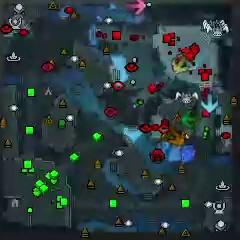p1: (180, 144, 196, 165)
x1: (127, 0, 148, 15)
x2: (170, 56, 189, 74)
x3: (200, 93, 219, 112)
x4: (181, 108, 200, 129)
x5: (167, 126, 185, 146)
